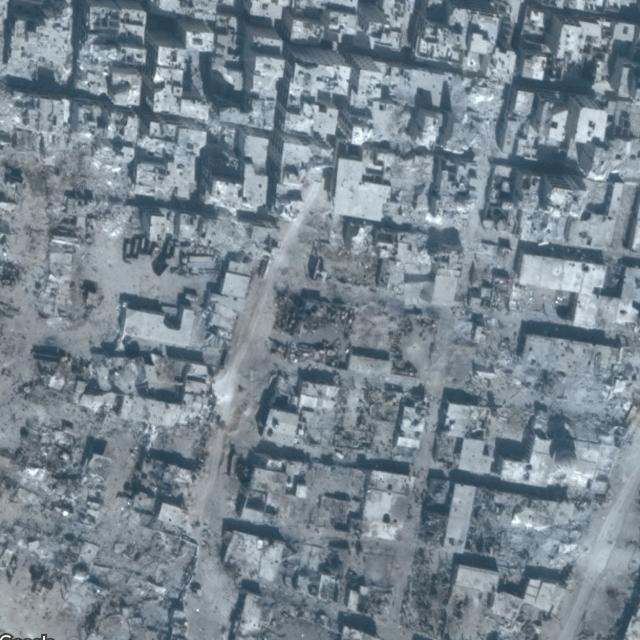damaged_building: (217, 77, 639, 635), (0, 5, 241, 638), (198, 217, 264, 255)
